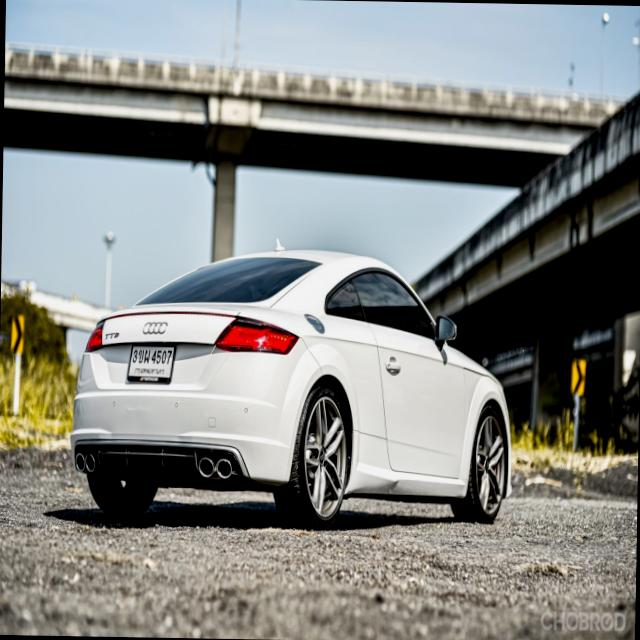license_plate: (124, 340, 177, 386)
